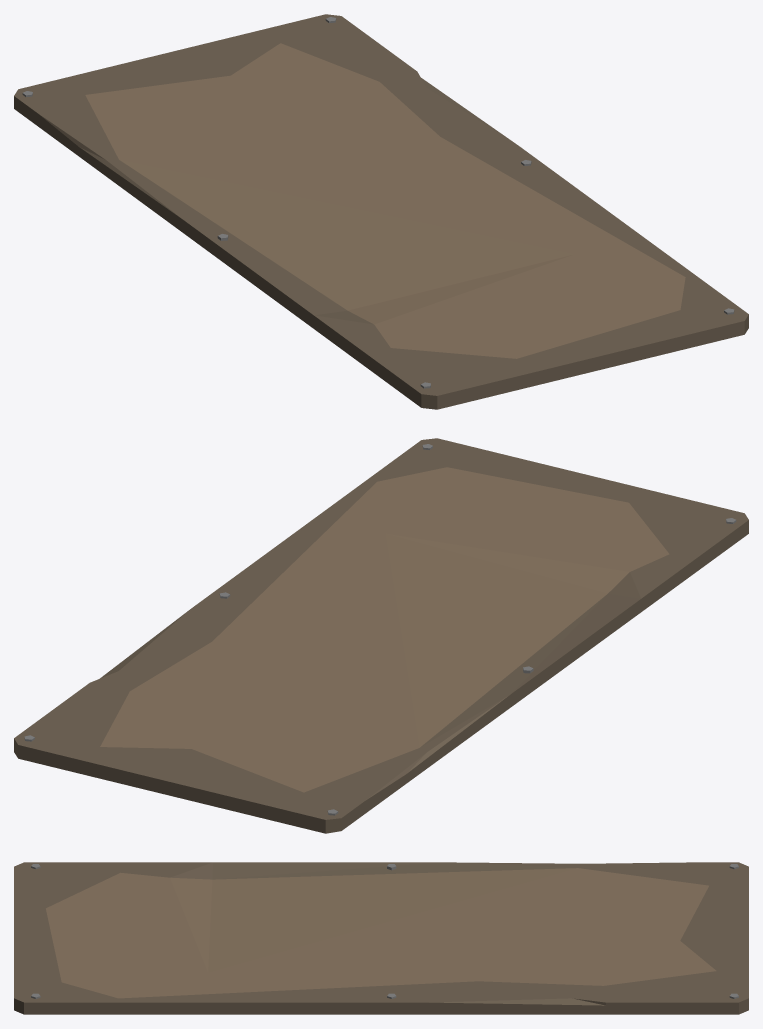
File: model_metal_platform.fbx
3 views of the same model, one above another, from view 1: azimuth 30°, elevation 25°; view 2: azimuth 150°, elevation 25°; view 3: azimuth 270°, elevation 25° (orthographic). The views are drawn at different scales.
Parts seen in each view (by area): view 1: model_metal_platform; view 2: model_metal_platform; view 3: model_metal_platform.
Boxes of the visible parts, bbox=[...] form: model_metal_platform: bbox=[14, 14, 748, 409]; model_metal_platform: bbox=[14, 438, 748, 833]; model_metal_platform: bbox=[14, 862, 748, 1014].
Size of the model in its own units: 189 by 8.62 by 418.
Materials: 1 (1 with a texture image).
